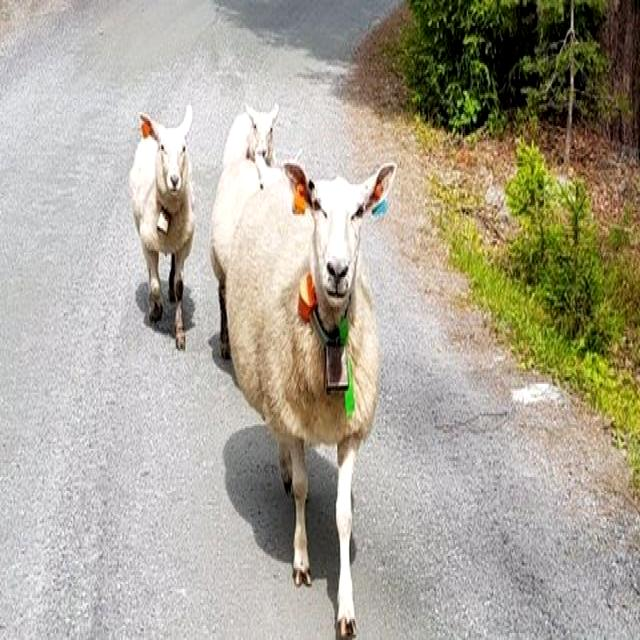sheep: (227, 159, 398, 633), (130, 102, 194, 345)
